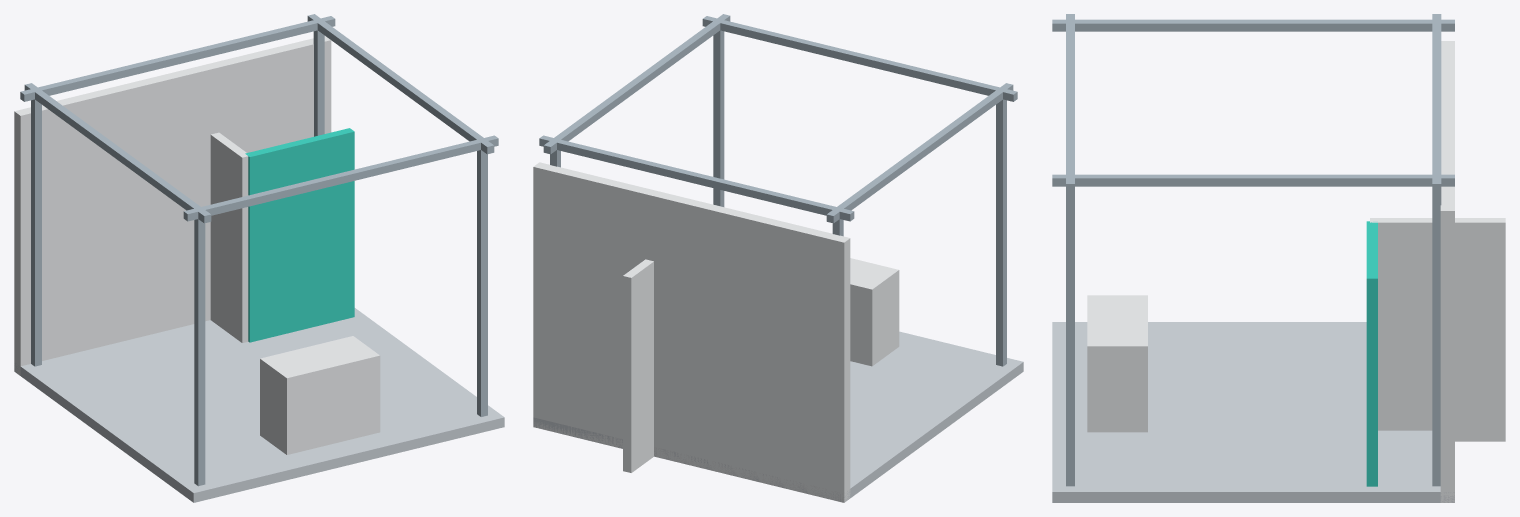
The picture shows the model from 3 angles, left to right: view 1: azimuth 30°, elevation 25°; view 2: azimuth 150°, elevation 25°; view 3: azimuth 270°, elevation 25°; orthographic projection. The views are drawn at different scales.
Parts seen in each view (by area): view 1: Exhibition Booth Concept; view 2: Exhibition Booth Concept; view 3: Exhibition Booth Concept.
Part boxes in pixels (x1=…): Exhibition Booth Concept: x1=14, y1=14, x2=504, y2=502; Exhibition Booth Concept: x1=533, y1=14, x2=1023, y2=502; Exhibition Booth Concept: x1=1052, y1=14, x2=1505, y2=502.
Bounding box in the file's own units: 4 × 3.49 × 4.51.
